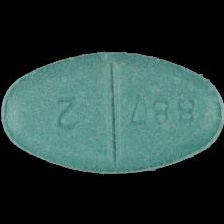0555-0887: (0, 0, 224, 224)
